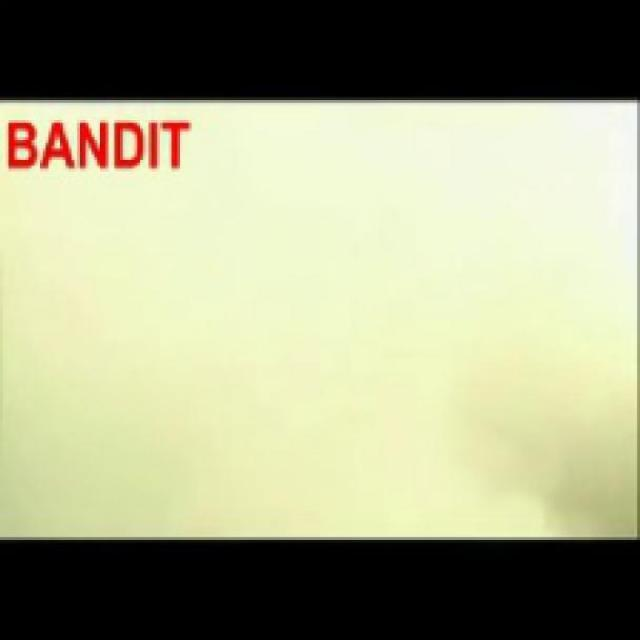Smoke: (3, 99, 634, 540)
